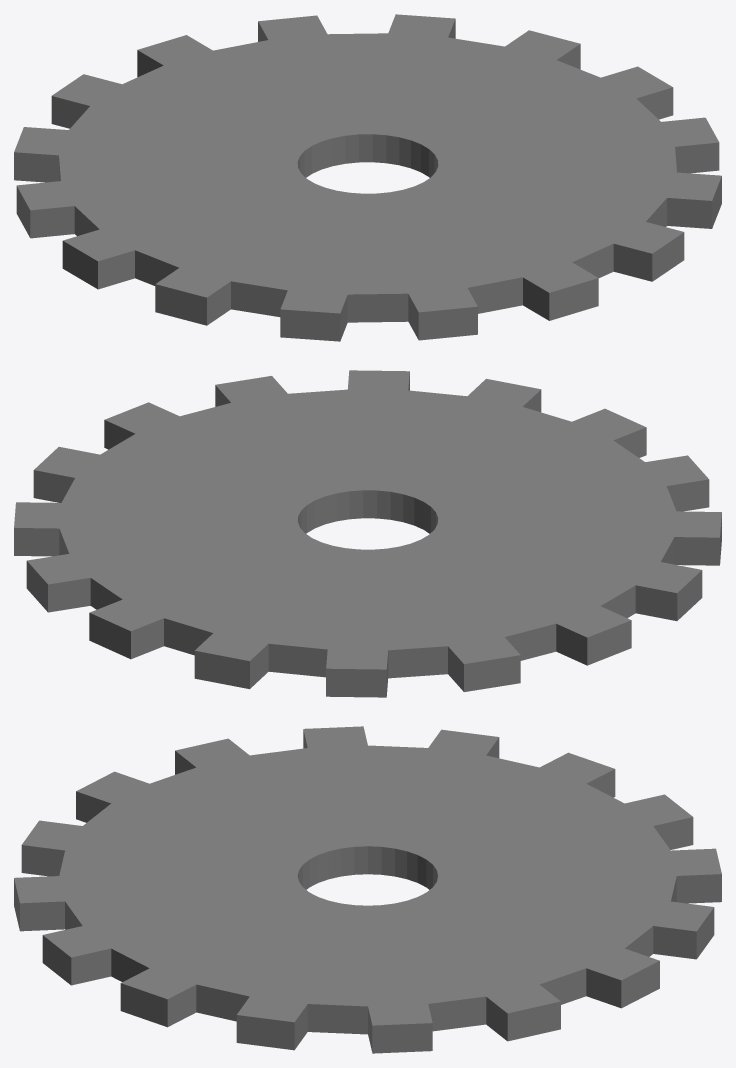
File: EnemyGear.obj
The picture shows the model from 3 angles, top to bottom: view 1: azimuth 30°, elevation 25°; view 2: azimuth 150°, elevation 25°; view 3: azimuth 270°, elevation 25°; orthographic projection.
Visible parts, largest first — view 1: 円柱; view 2: 円柱; view 3: 円柱.
Part boxes in pixels (left/top/right/bottom): 円柱: left=14, top=14, right=721, bottom=341; 円柱: left=14, top=370, right=721, bottom=697; 円柱: left=14, top=726, right=721, bottom=1053.
Size of the model in its own units: 2.29 by 0.1 by 2.29.
1 material, 1 textured.
